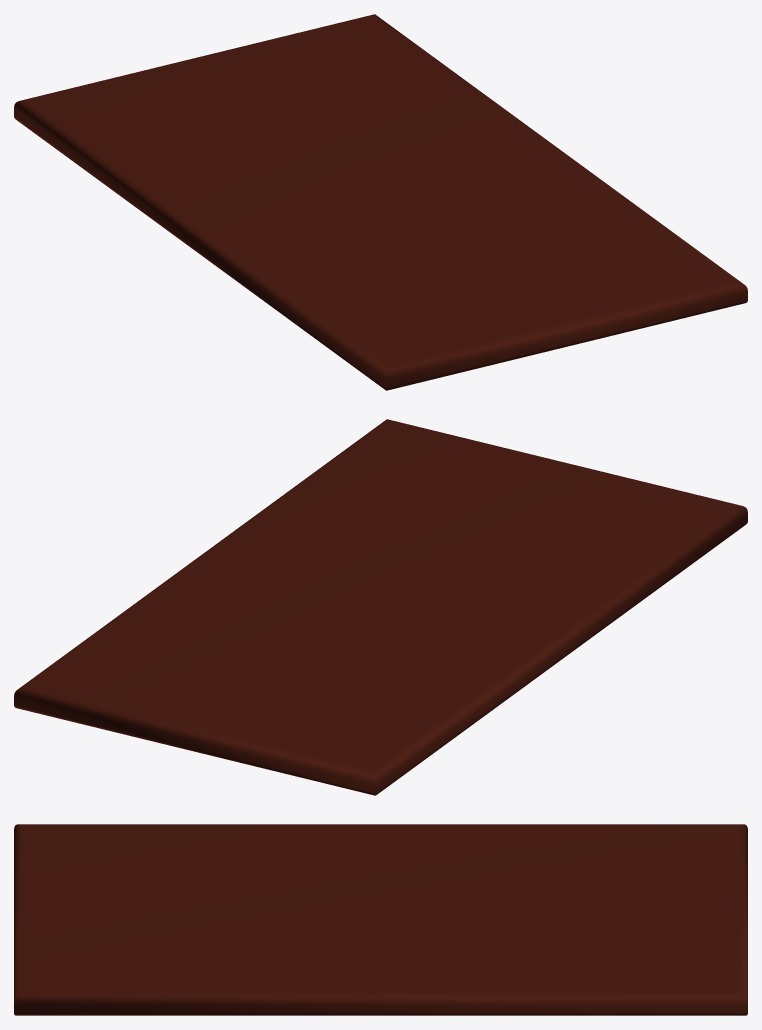
File: N_TownMap.fbx
3 views of the same model, one above another, from view 1: azimuth 30°, elevation 25°; view 2: azimuth 150°, elevation 25°; view 3: azimuth 270°, elevation 25° (orthographic).
Visible parts, largest first — view 1: TownMap; view 2: TownMap; view 3: TownMap.
Part boxes in pixels (<box>): TownMap: <box>14,14,747,390</box>; TownMap: <box>14,419,747,795</box>; TownMap: <box>14,824,747,1015</box>.
Size of the model in its own units: 90 by 5 by 160.
